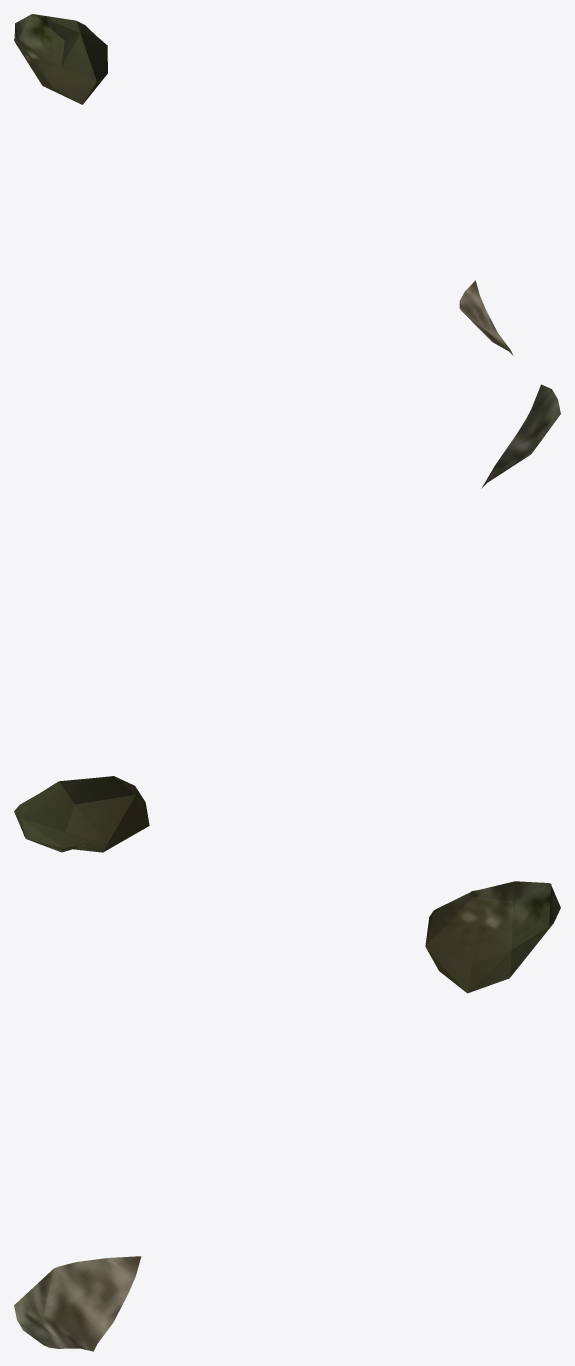
3 renders of one model, top to bottom at view 1: azimuth 30°, elevation 25°; view 2: azimuth 150°, elevation 25°; view 3: azimuth 330°, elevation 25°, orthographic. The views are drawn at different scales.
Size of the model in its own units: 0.3187 by 0.1364 by 2.42.
Materials: 1 (1 with a texture image).
